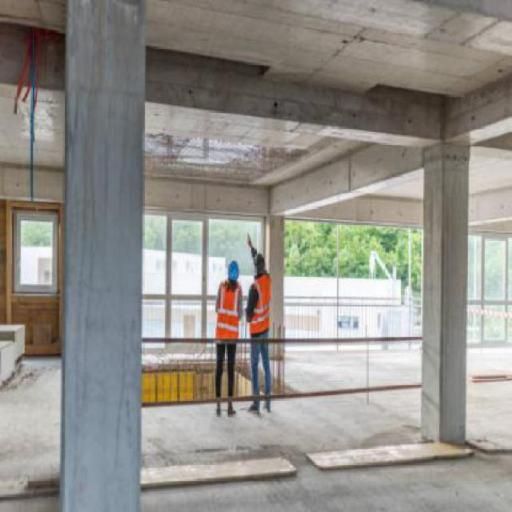hardhat: (223, 258, 243, 282)
person: (242, 240, 278, 421), (208, 253, 242, 420)
vest: (245, 273, 277, 340), (212, 282, 246, 344)
